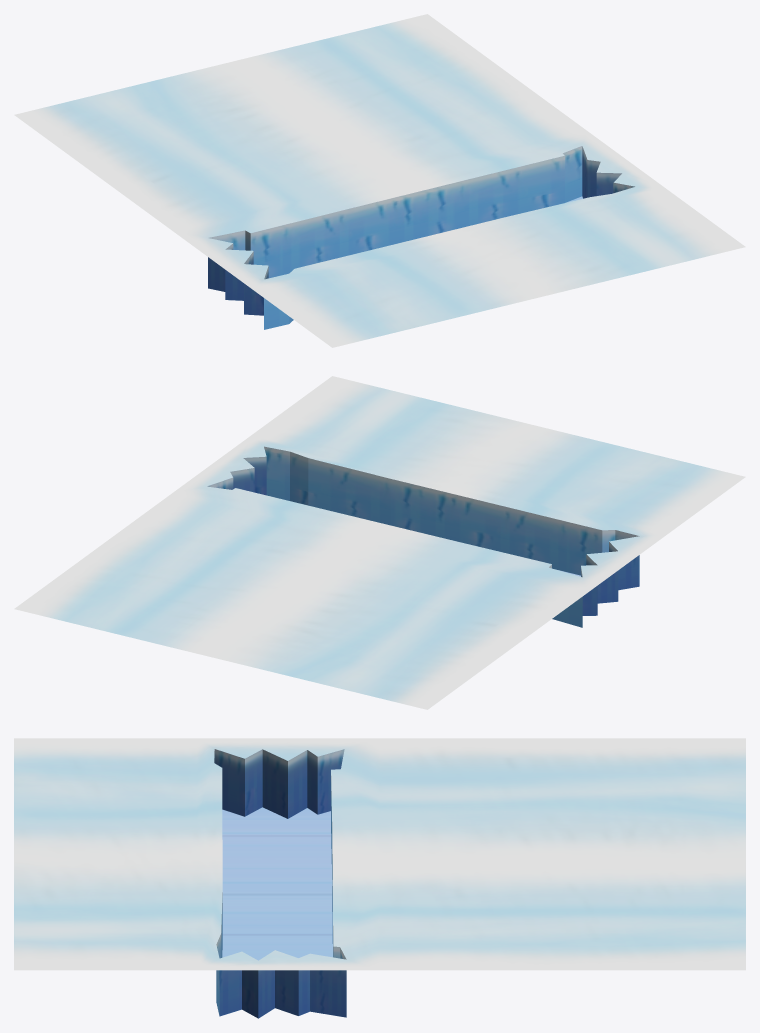
File: Hole_L_L_02.FBX
The picture shows the model from 3 angles, top to bottom: view 1: azimuth 30°, elevation 25°; view 2: azimuth 150°, elevation 25°; view 3: azimuth 270°, elevation 25°; orthographic projection. The views are drawn at different scales.
Parts seen in each view (by area): view 1: modelRoad084; view 2: modelRoad084; view 3: modelRoad084.
Boxes of the visible parts, x1,y1,x2,y2 form: modelRoad084: (14,14,745,347); modelRoad084: (14,376,745,709); modelRoad084: (14,738,745,1018).
Bounding box in the file's own units: 600 × 70 × 800.
